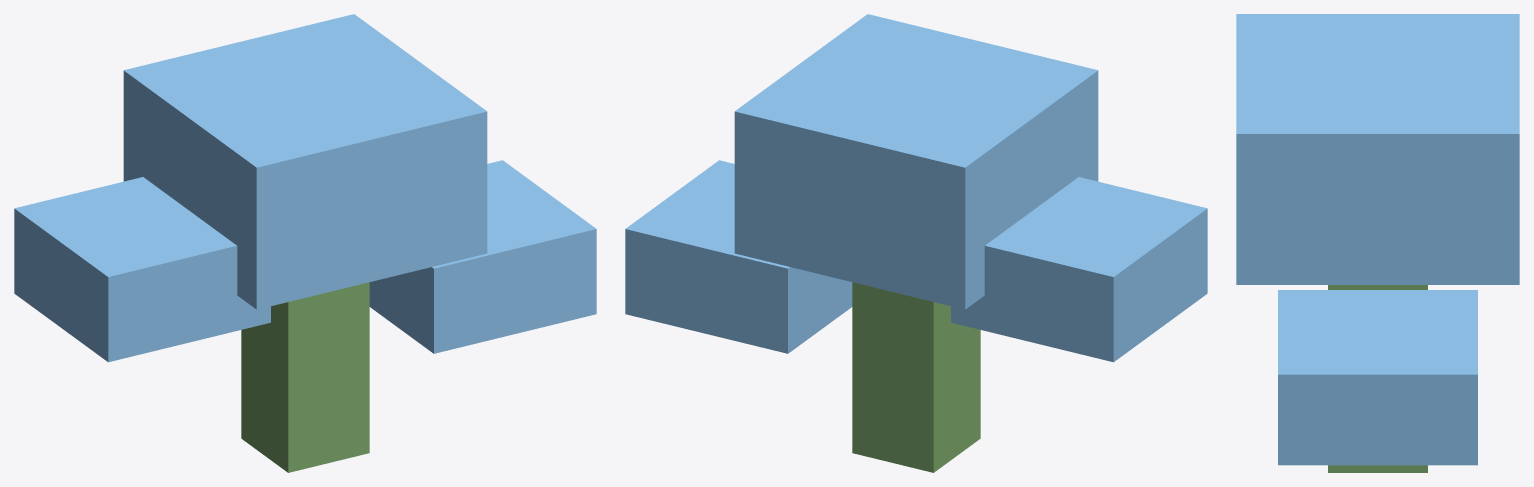
The model's file is Prop_DS_Herb_BufferBloom_S1.glb.
The picture shows the model from 3 angles, left to right: view 1: azimuth 30°, elevation 25°; view 2: azimuth 150°, elevation 25°; view 3: azimuth 270°, elevation 25°; orthographic projection. The views are drawn at different scales.
Visible parts, largest first — view 1: Prop_DS_Herb_BufferBloom_S1; view 2: Prop_DS_Herb_BufferBloom_S1; view 3: Prop_DS_Herb_BufferBloom_S1.
Part boxes in pixels (x1,y1,x2,y2): Prop_DS_Herb_BufferBloom_S1: (14,14,596,472); Prop_DS_Herb_BufferBloom_S1: (625,14,1207,472); Prop_DS_Herb_BufferBloom_S1: (1236,14,1519,472).
Bounding box in the file's own units: 0.36 × 0.25 × 0.17.
